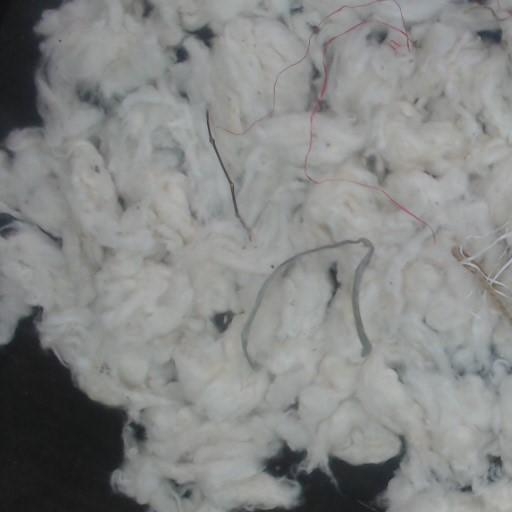cotton: (0, 0, 511, 511)
thread: (242, 238, 374, 367), (217, 32, 316, 136), (204, 105, 252, 244), (0, 176, 84, 248), (344, 178, 436, 240), (453, 231, 511, 318), (328, 0, 411, 51), (304, 88, 335, 184), (321, 23, 366, 60), (104, 166, 123, 215)
